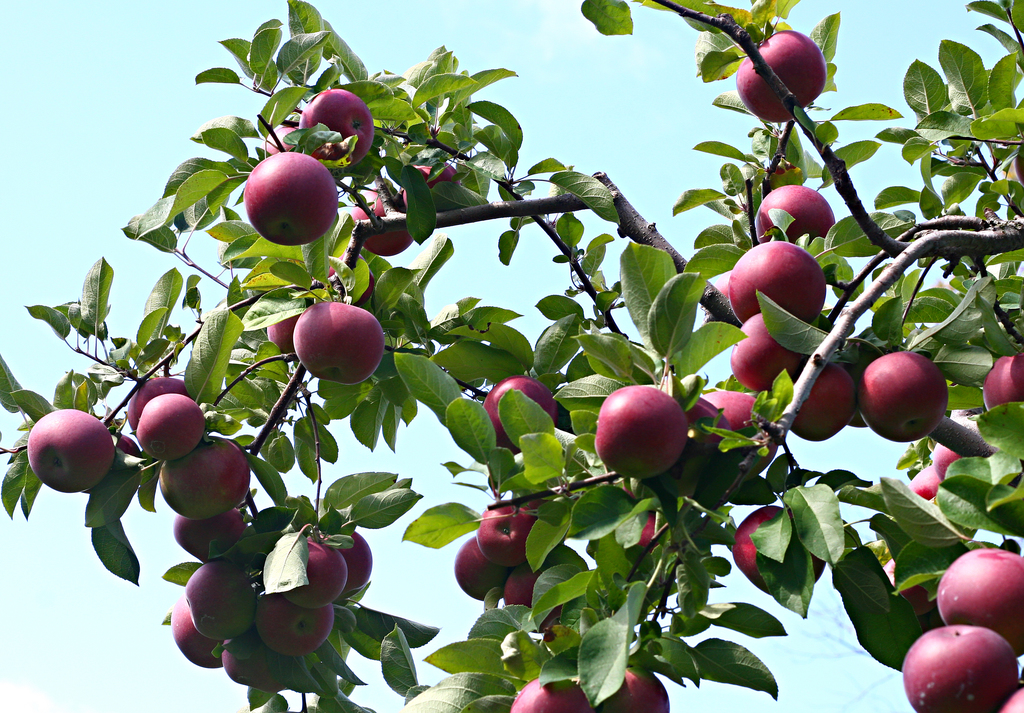Apple: (26, 84, 1023, 712), (236, 147, 343, 250), (732, 26, 826, 121)
